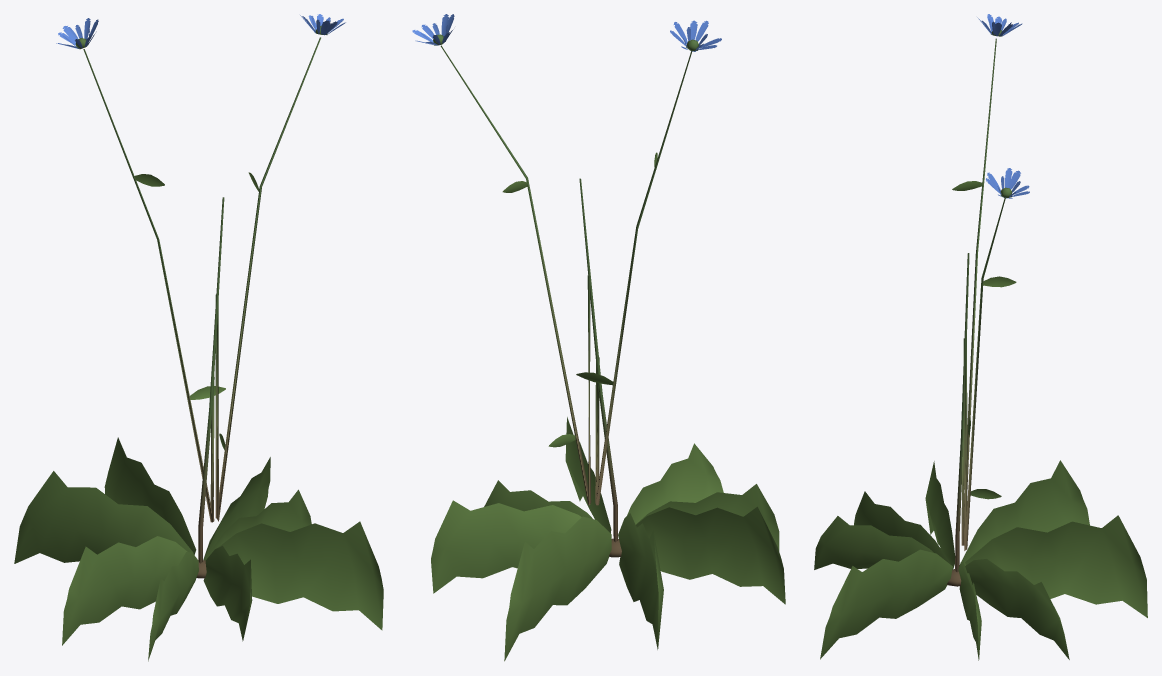
The model's file is Chicory_lod1.glb.
3 renders of one model, left to right at view 1: azimuth 30°, elevation 25°; view 2: azimuth 150°, elevation 25°; view 3: azimuth 270°, elevation 25°, orthographic. The views are drawn at different scales.
Visible parts, largest first — view 1: Plant_LOD1; view 2: Plant_LOD1; view 3: Plant_LOD1.
Boxes of the visible parts, box(x1,y1,x2,y2) form: Plant_LOD1: box(14, 14, 383, 661); Plant_LOD1: box(412, 14, 785, 661); Plant_LOD1: box(814, 14, 1147, 660).
Size of the model in its own units: 0.5562 by 0.9711 by 0.529.
